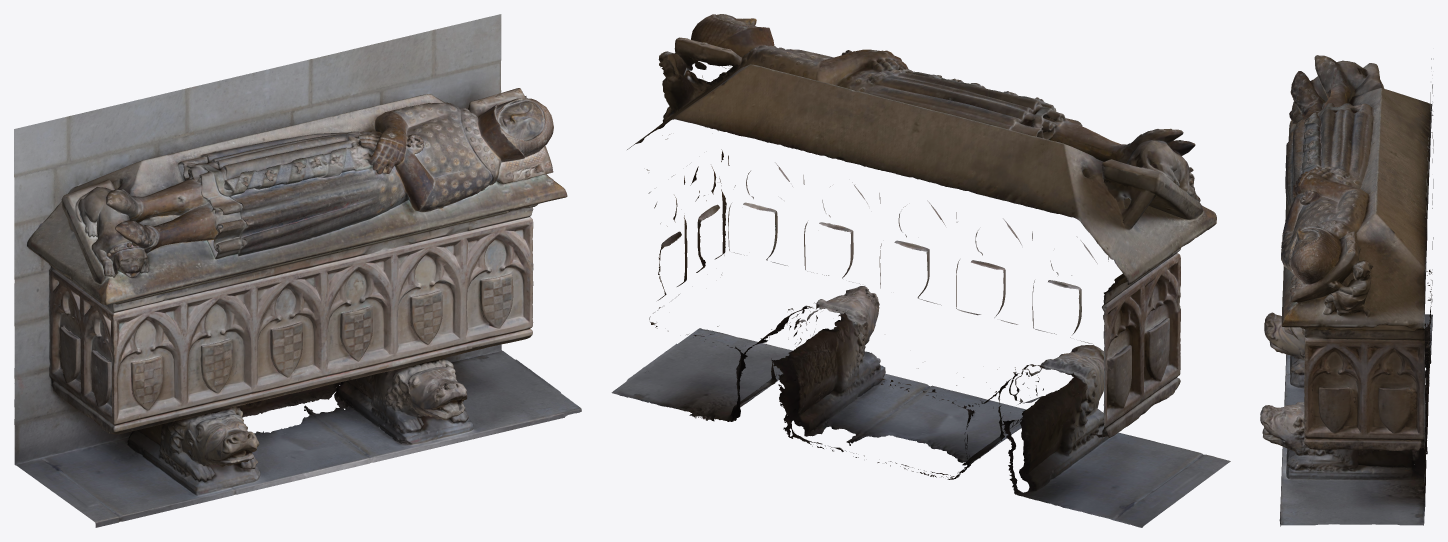
Rendered from tomb_of_ermengol_x.glb.
3 renders of one model, left to right at view 1: azimuth 30°, elevation 25°; view 2: azimuth 150°, elevation 25°; view 3: azimuth 270°, elevation 25°, orthographic. The views are drawn at different scales.
Visible parts, largest first — view 1: PG_48_140_2a_d_ErmengolX_Final_n3d; view 2: PG_48_140_2a_d_ErmengolX_Final_n3d; view 3: PG_48_140_2a_d_ErmengolX_Final_n3d.
Boxes of the visible parts, x1=… form: PG_48_140_2a_d_ErmengolX_Final_n3d: x1=14, y1=14, x2=581, y2=527; PG_48_140_2a_d_ErmengolX_Final_n3d: x1=611, y1=14, x2=1230, y2=527; PG_48_140_2a_d_ErmengolX_Final_n3d: x1=1260, y1=55, x2=1433, y2=526.
Bounding box in the file's own units: 2.2 × 1.48 × 0.7647.
Materials: 1 (1 with a texture image).
